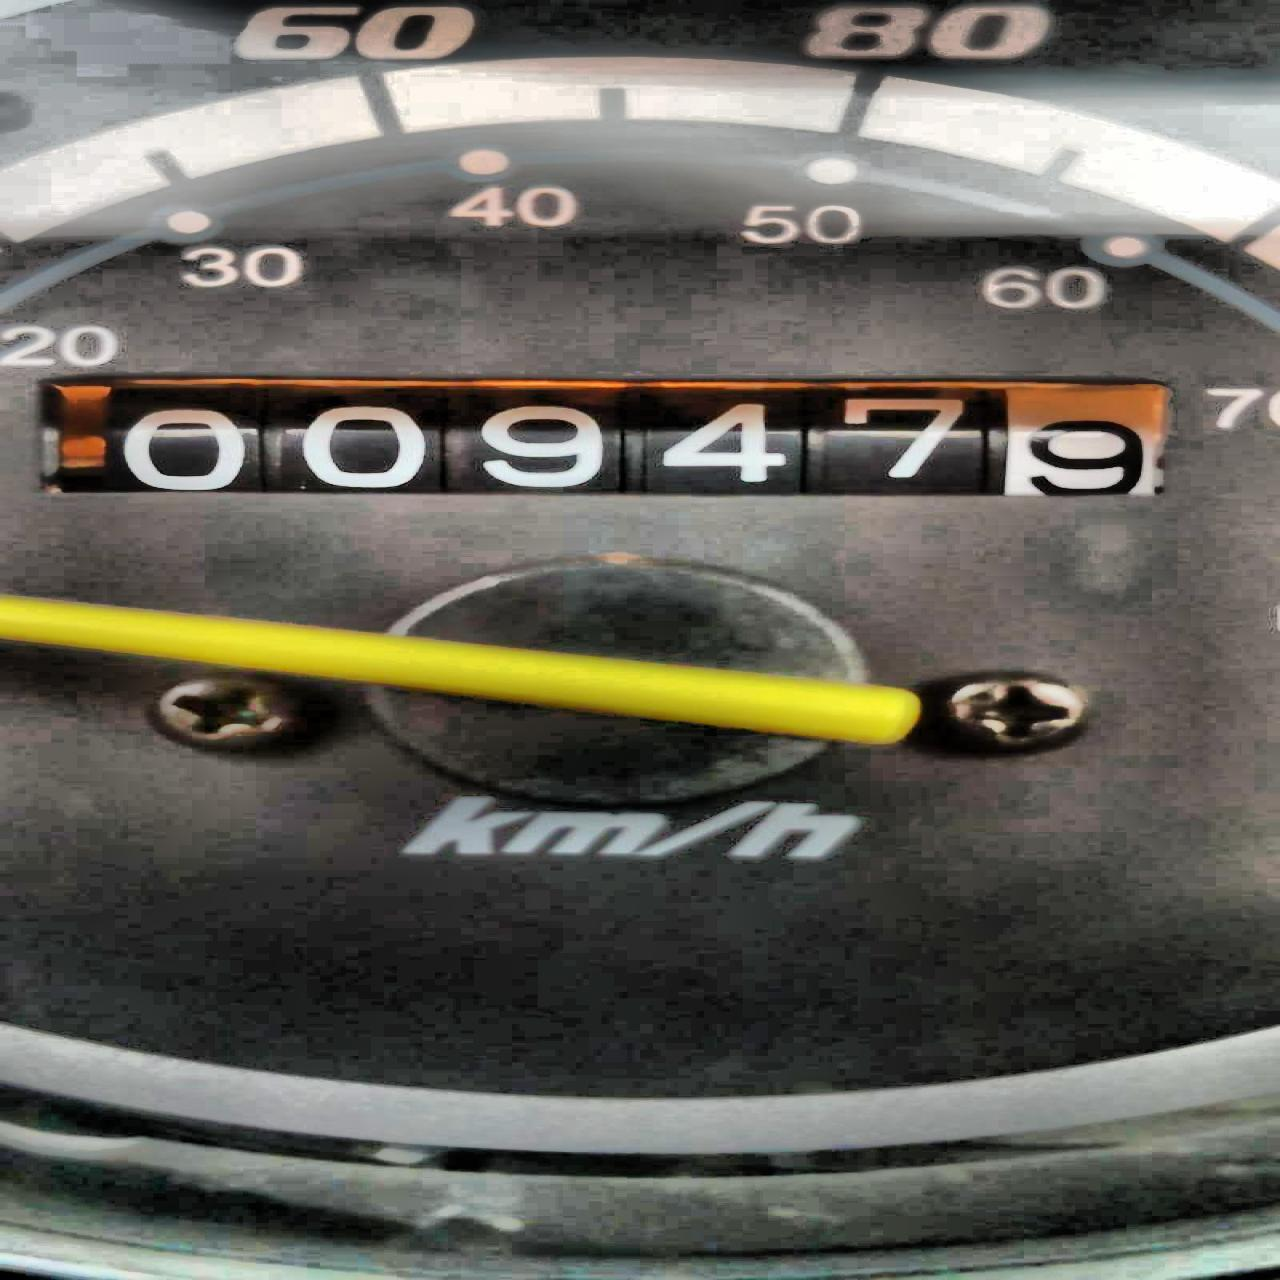0: (285, 390, 427, 496), (104, 402, 256, 495)
4: (651, 394, 799, 486)
7: (833, 393, 964, 482)
9: (456, 396, 610, 493), (1017, 411, 1141, 501)
odometer: (34, 367, 1206, 519)
